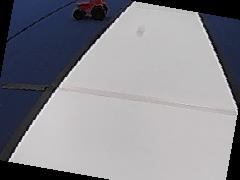Tracktor: (72, 0, 108, 22)
